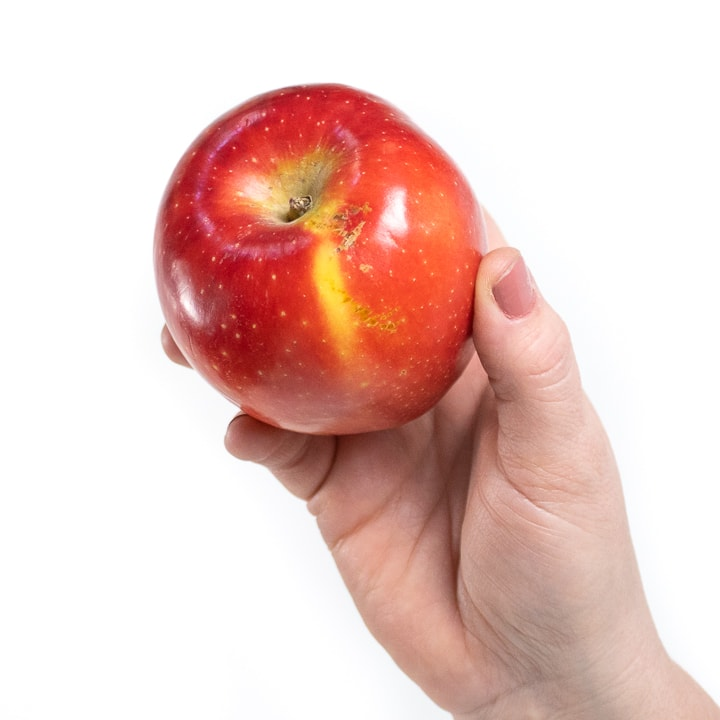apple: (151, 82, 491, 438)
